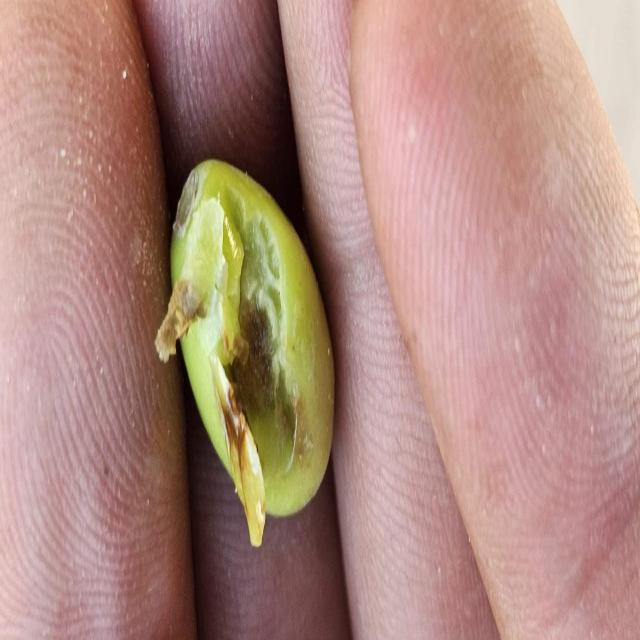Olive Fruit Fly: (155, 159, 333, 544)
